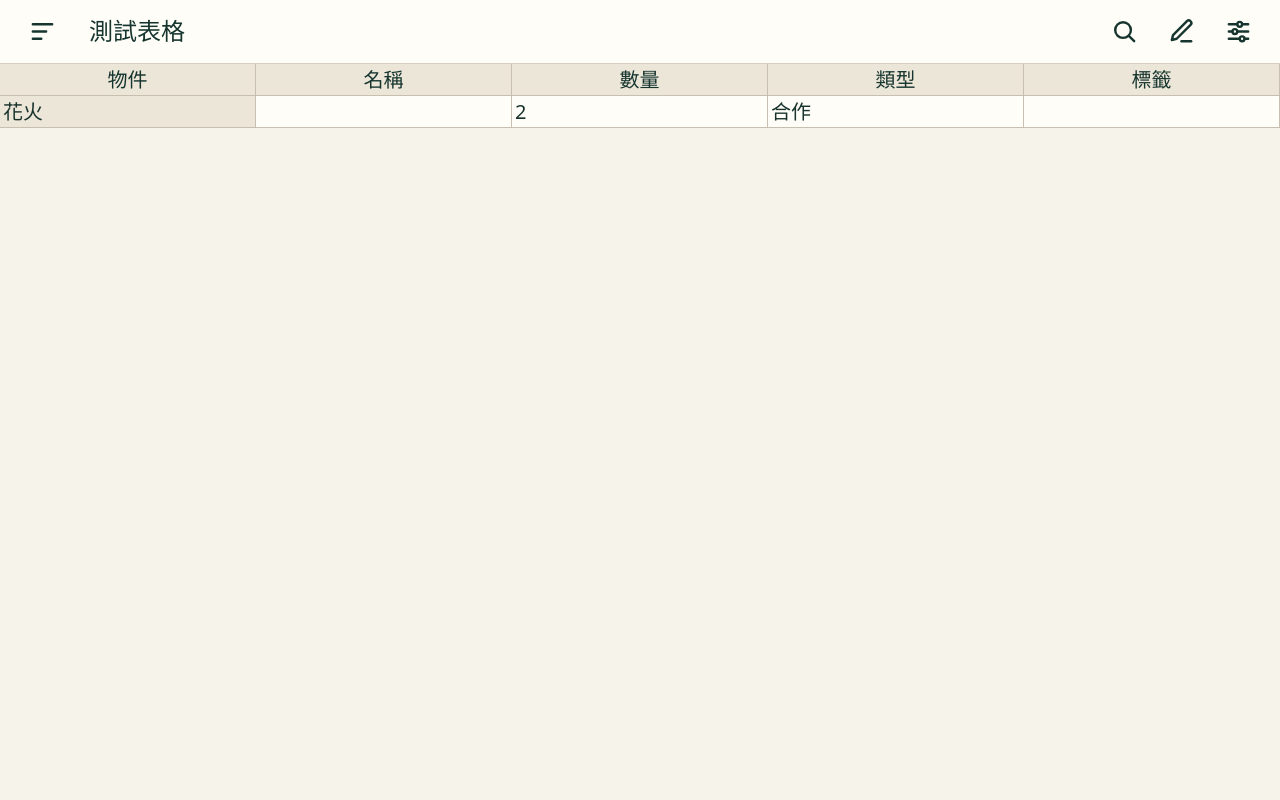
Test: WorkspacePage.bulk › uses native text and number controls when cells enter edit mode
The width and height of the screenshot is (1280, 800).
Click the cell named "花火，名稱：空白" at point(384, 112), box x1=256 y1=96 x2=512 y2=128
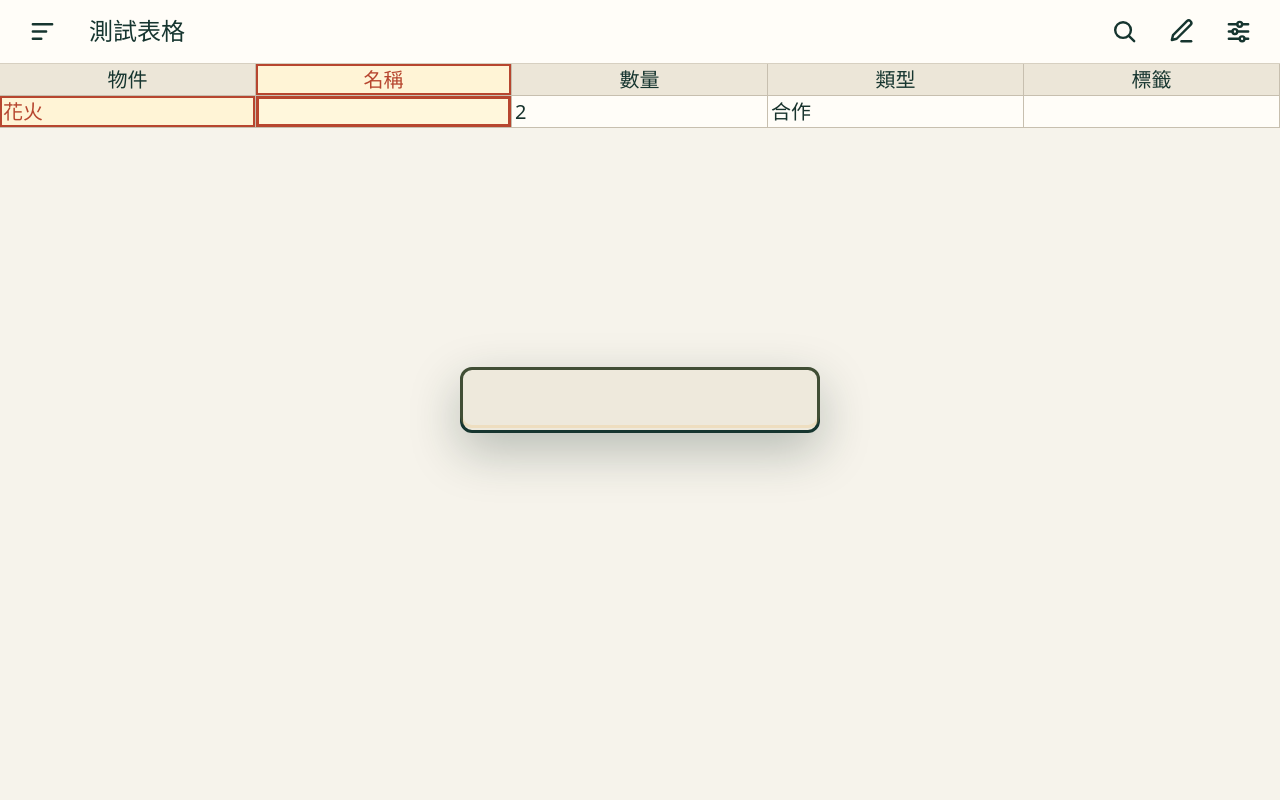
Expected: the dialog is shown, x1=460 y1=367 x2=820 y2=433
Press Escape
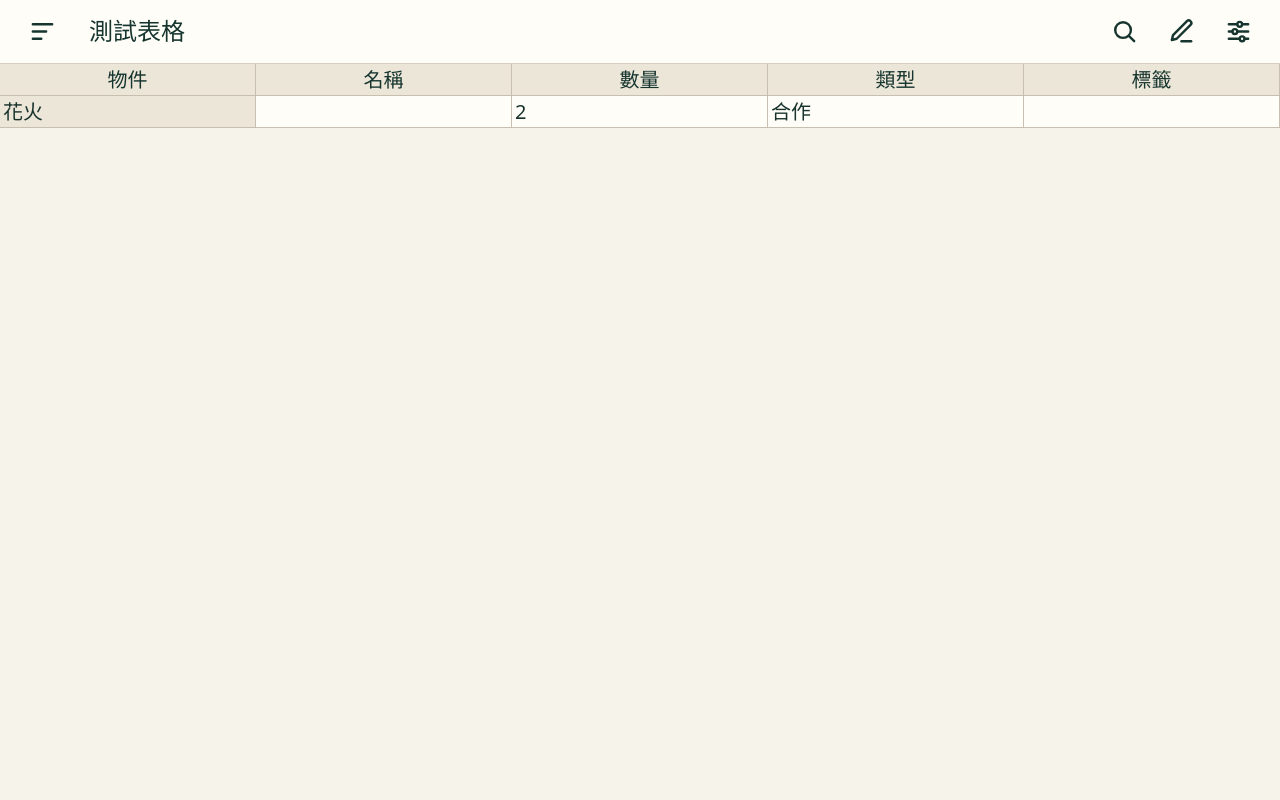
Click the text "2" at point(521, 112), box x1=515 y1=98 x2=526 y2=125
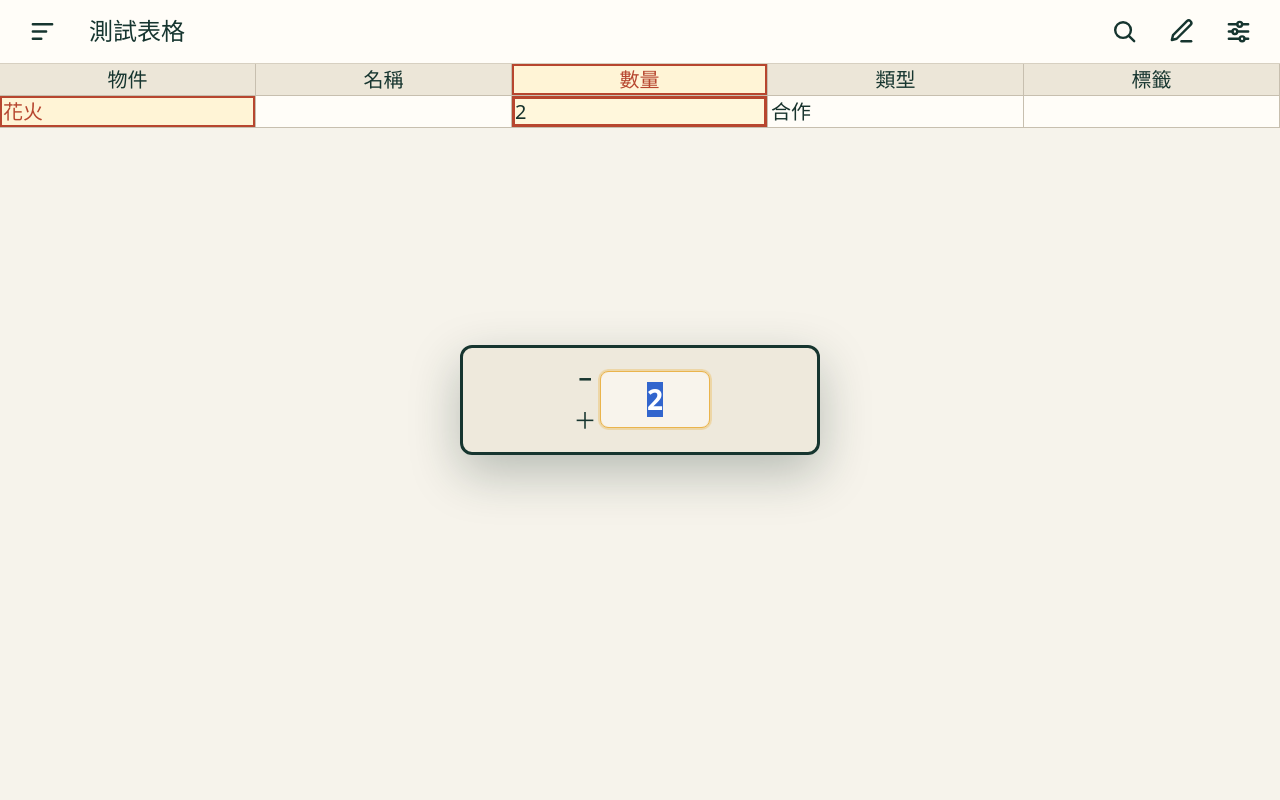
Expected: the dialog is shown, x1=460 y1=345 x2=820 y2=455
